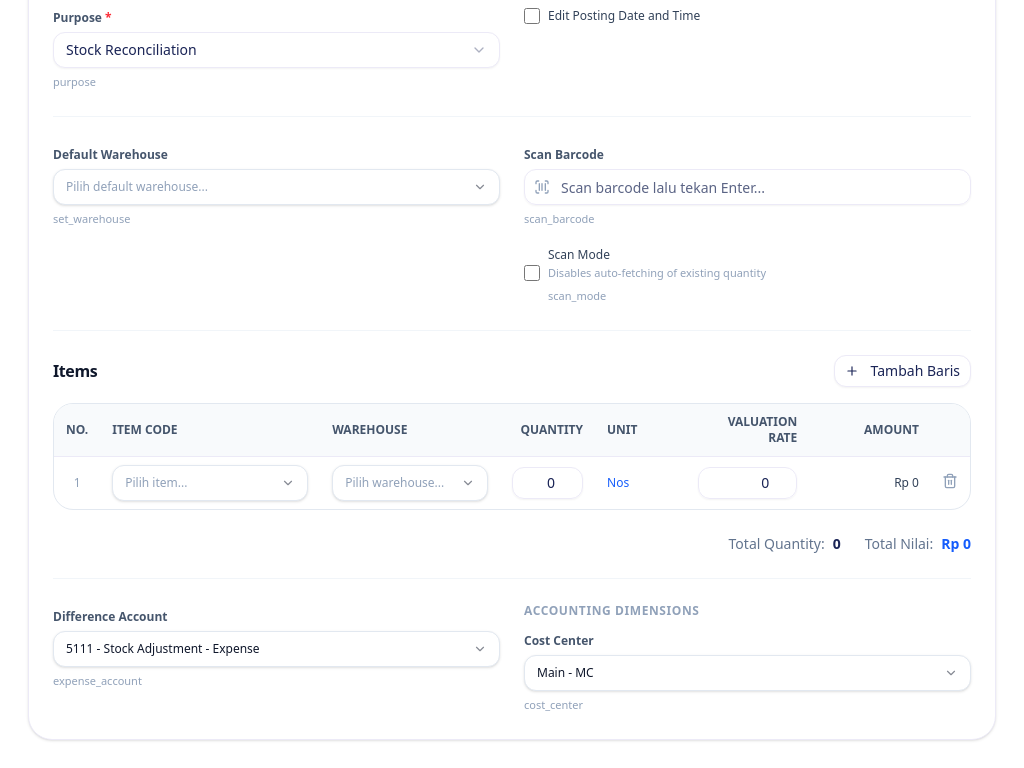
Test: StockReconciliationFormPage › renders stock reconciliation form and auto-fetches existing qty when selecting item and warehouse
The width and height of the screenshot is (1024, 768).
(page scrolled)
Expected: the text "purpose" is shown, [53, 74, 96, 89]
Expected: the text "scan_barcode" is shown, [524, 211, 595, 226]
// Select Item "MK"
What coordinates should you click on to do the following:
click the button "Pilih item..."
I would click on:
 (210, 482)
Its box is [112, 464, 308, 500].
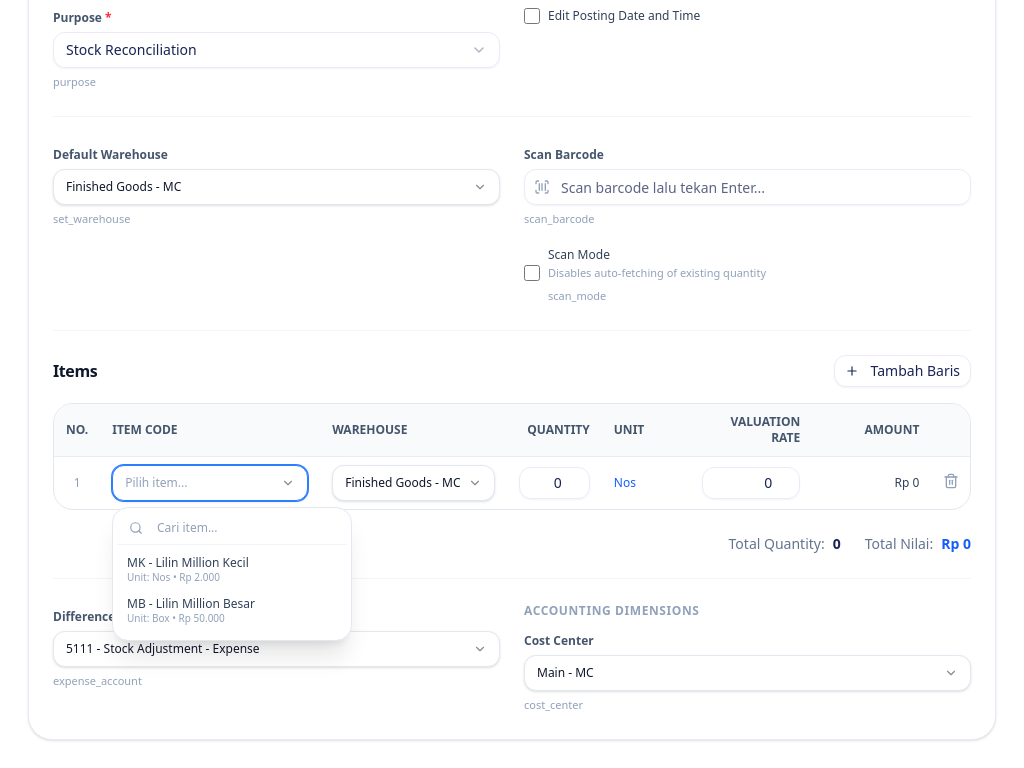
Expected: the text "MK - Lilin Million Kecil" is shown
What coordinates should you click on to do the following:
click the text "MK - Lilin Million Kecil"
I would click on:
 (188, 563)
Its box is [127, 555, 249, 571].
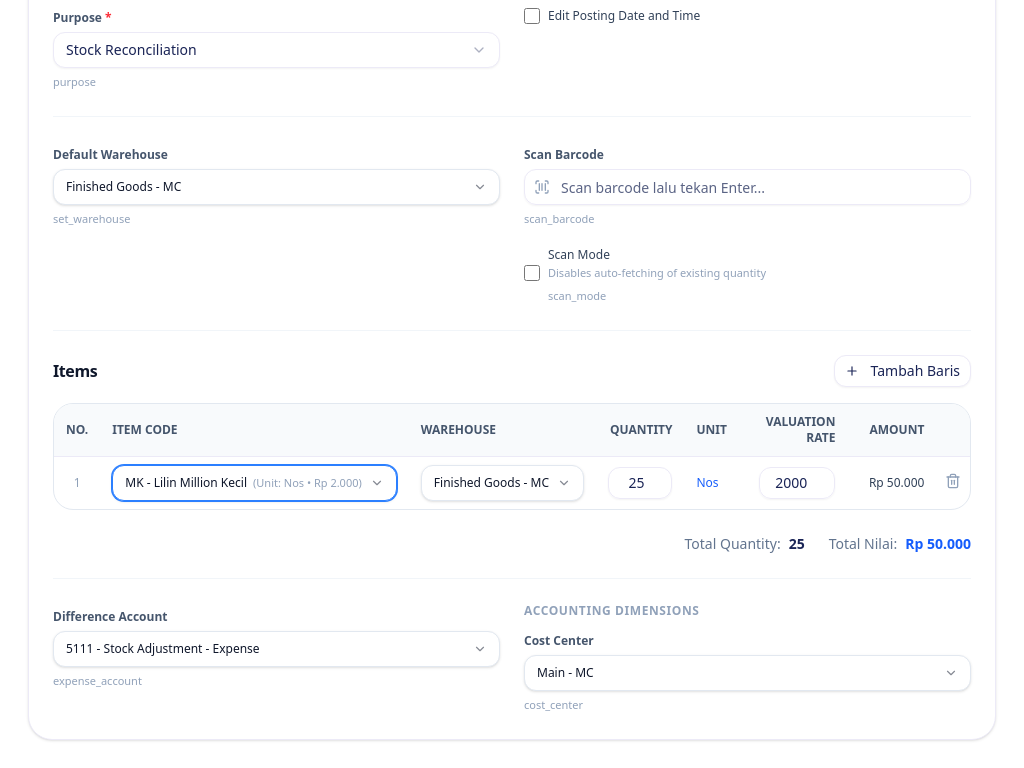
Expected: the 1st number field showing "25" is shown, [608, 466, 672, 498]
